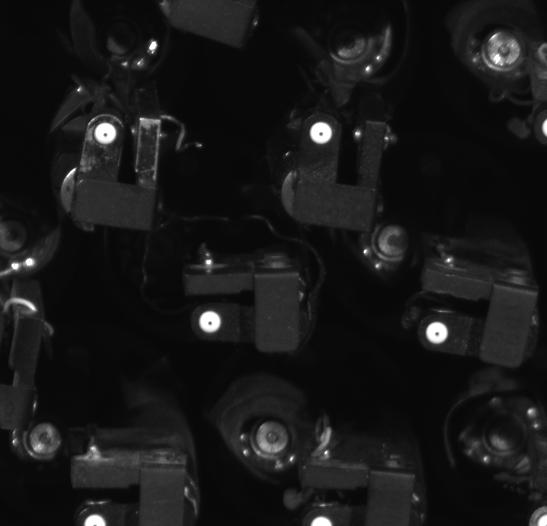fiber: (420, 315, 455, 350), (193, 304, 226, 338), (304, 118, 336, 149), (90, 119, 121, 148), (75, 507, 119, 526)
